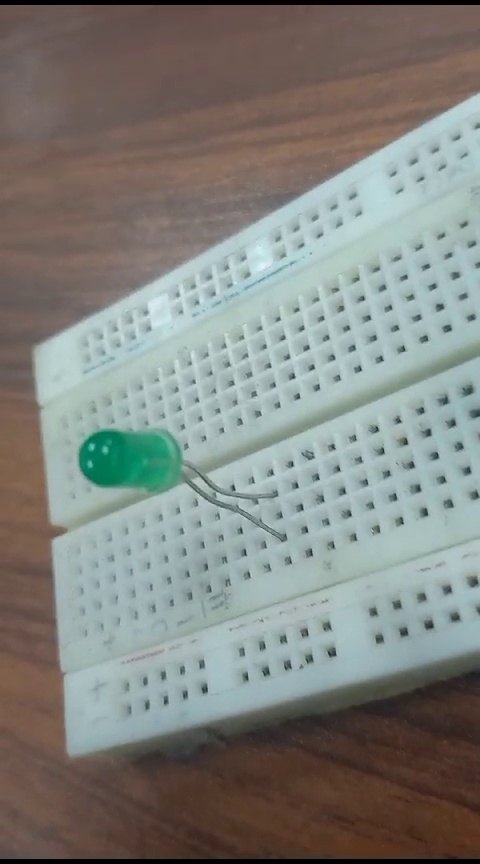LED: (72, 424, 286, 555)
